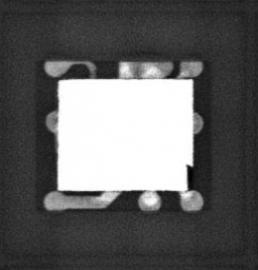DIE_BROKEN: (185, 163, 195, 192)
